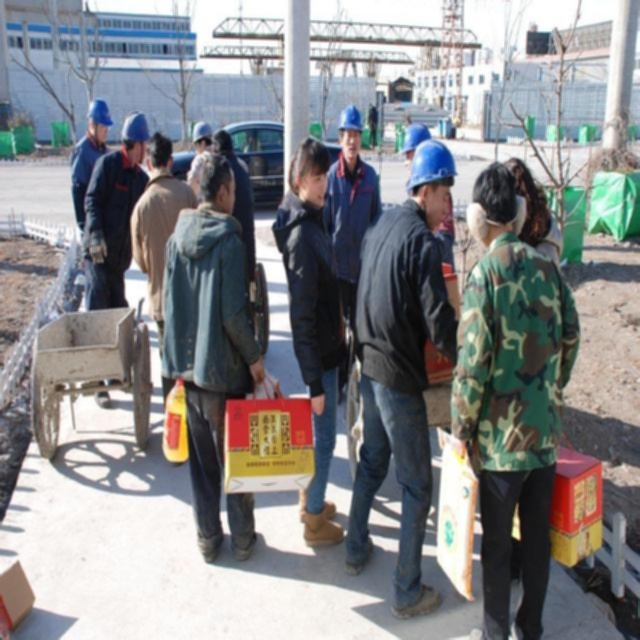Con_Casco: (123, 110, 150, 167), (338, 105, 363, 159)
Sin_Casco_Mascarrilla: (294, 137, 329, 207), (200, 155, 236, 208), (148, 131, 175, 174)
